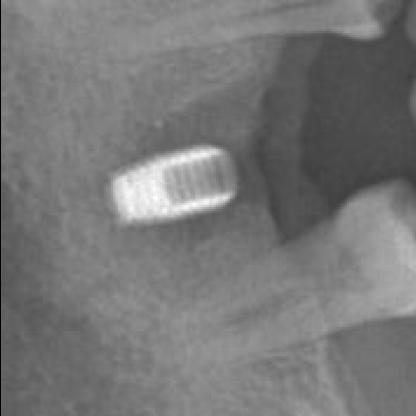Bicon: (86, 140, 238, 245)
